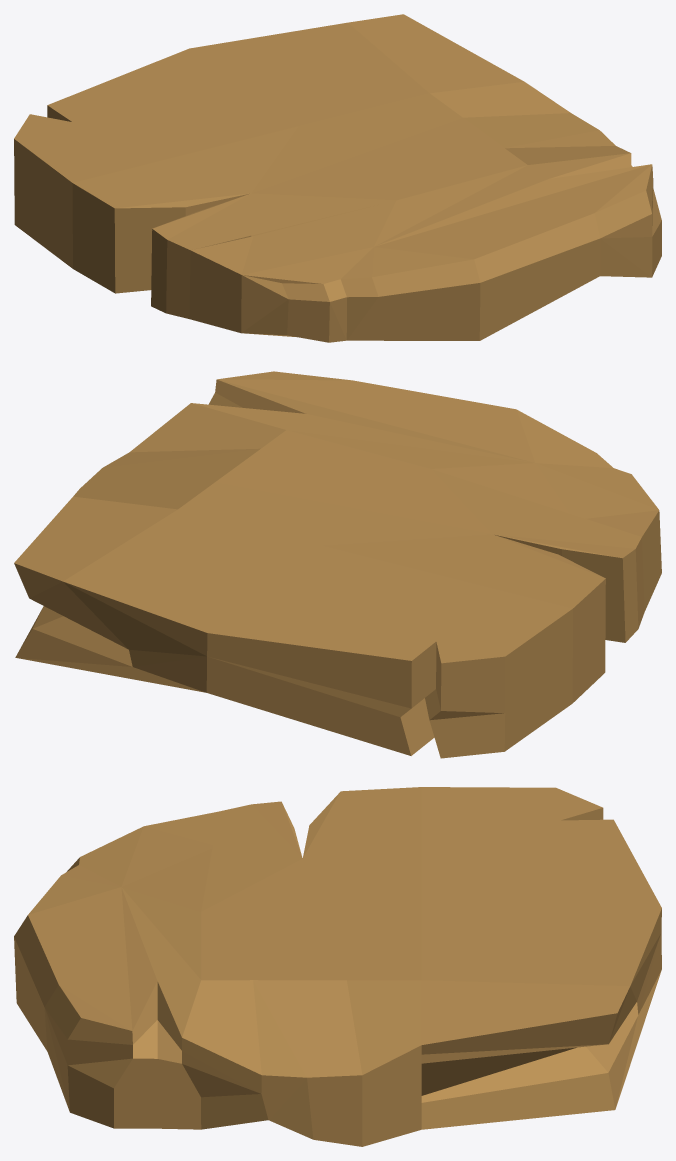
The picture shows the model from 3 angles, top to bottom: view 1: azimuth 30°, elevation 25°; view 2: azimuth 150°, elevation 25°; view 3: azimuth 270°, elevation 25°; orthographic projection. The views are drawn at different scales.
Parts seen in each view (by area): view 1: Cube.001; view 2: Cube.001; view 3: Cube.001.
Boxes of the visible parts, x1,y1,x2,y2 form: Cube.001: (14, 14, 661, 342); Cube.001: (14, 371, 661, 758); Cube.001: (14, 787, 661, 1146).
Bounding box in the file's own units: 219 × 40.66 × 229.
